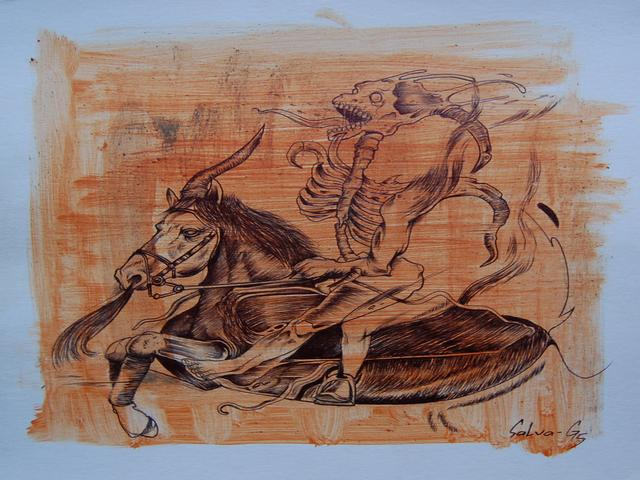horse: (65, 152, 573, 458)
